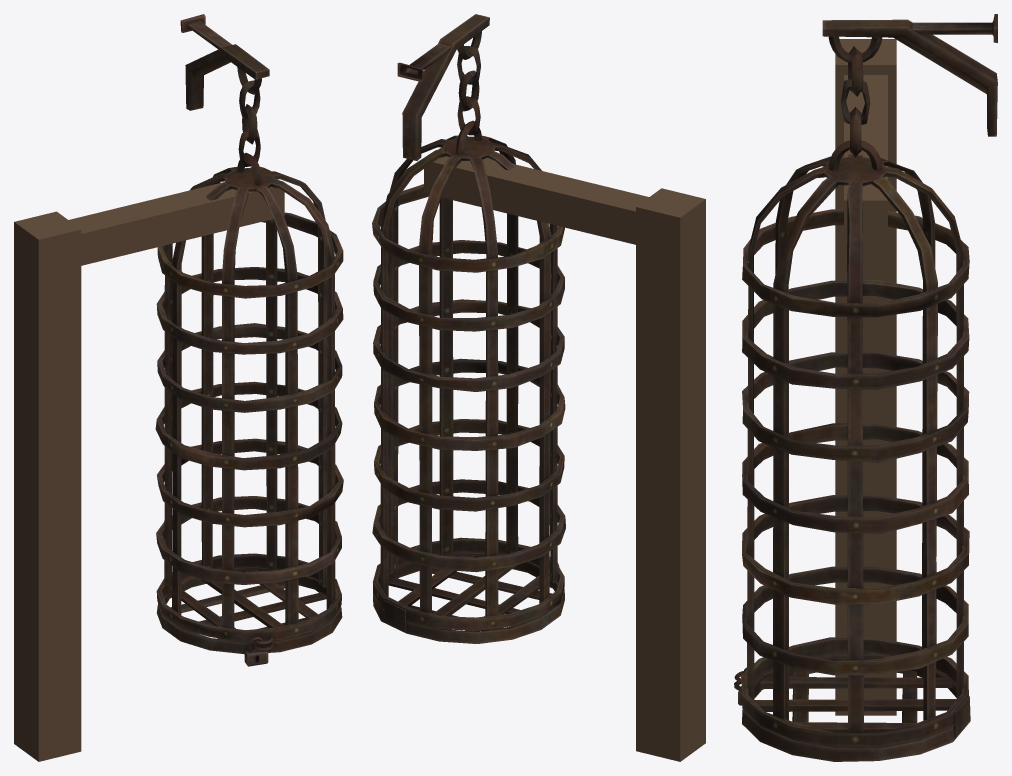
File: Gibbet.glb
3 views of the same model, side by side, from view 1: azimuth 30°, elevation 25°; view 2: azimuth 150°, elevation 25°; view 3: azimuth 270°, elevation 25° (orthographic). The views are drawn at different scales.
Visible parts, largest first — view 1: Gibbet_hanging_cage, Gibbet_post, Gibbet_beam, Gibbet_hanging_cage_hatch, Gibbet_hanging_cage_chains; view 2: Gibbet_hanging_cage, Gibbet_post, Gibbet_beam, Gibbet_hanging_cage_hatch, Gibbet_hanging_cage_chains; view 3: Gibbet_hanging_cage, Gibbet_post, Gibbet_hanging_cage_hatch, Gibbet_beam, Gibbet_hanging_cage_chains.
Part boxes in pixels (left/top/right/bottom): Gibbet_hanging_cage: left=155, top=14, right=343, bottom=666; Gibbet_post: left=14, top=211, right=81, bottom=761; Gibbet_beam: left=69, top=179, right=284, bottom=265; Gibbet_hanging_cage_hatch: left=156, top=567, right=342, bottom=654; Gibbet_hanging_cage_chains: left=237, top=67, right=273, bottom=651; Gibbet_hanging_cage: left=372, top=14, right=565, bottom=630; Gibbet_post: left=636, top=188, right=705, bottom=761; Gibbet_beam: left=424, top=147, right=648, bottom=244; Gibbet_hanging_cage_hatch: left=373, top=551, right=564, bottom=643; Gibbet_hanging_cage_chains: left=456, top=31, right=559, bottom=566; Gibbet_hanging_cage: left=738, top=14, right=997, bottom=747; Gibbet_post: left=835, top=39, right=896, bottom=715; Gibbet_hanging_cage_hatch: left=734, top=653, right=970, bottom=761; Gibbet_beam: left=844, top=75, right=887, bottom=240; Gibbet_hanging_cage_chains: left=734, top=36, right=882, bottom=682.
Bounding box in the file's own units: 1.96 × 4.04 × 1.2.
2 materials, 1 textured.
